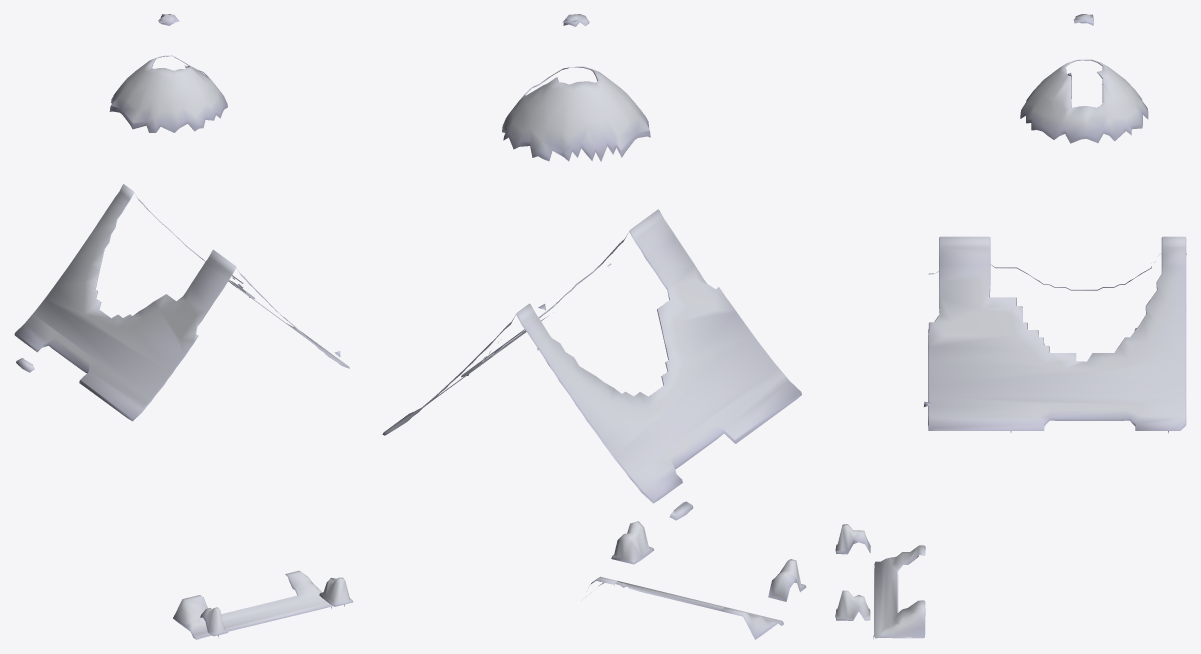
Rendered from category.lending.xl.snow.glb.
The picture shows the model from 3 angles, left to right: view 1: azimuth 30°, elevation 25°; view 2: azimuth 150°, elevation 25°; view 3: azimuth 270°, elevation 25°; orthographic projection. The views are drawn at different scales.
Visible parts, largest first — view 1: snow; view 2: snow; view 3: snow.
Part boxes in pixels (x1=…): snow: x1=14, y1=14, x2=353, y2=639; snow: x1=382, y1=14, x2=806, y2=639; snow: x1=835, y1=14, x2=1186, y2=639.
Size of the model in its own units: 11.58 by 26.35 by 14.24.
